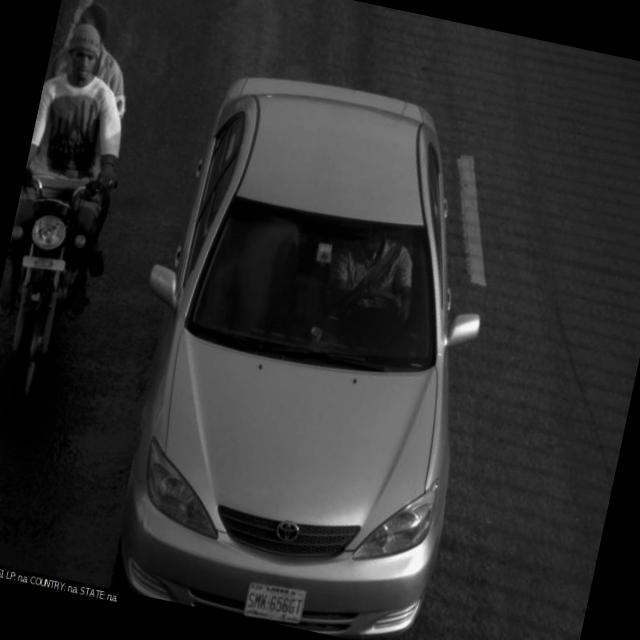person_with_seatbelt: (304, 202, 442, 368)
